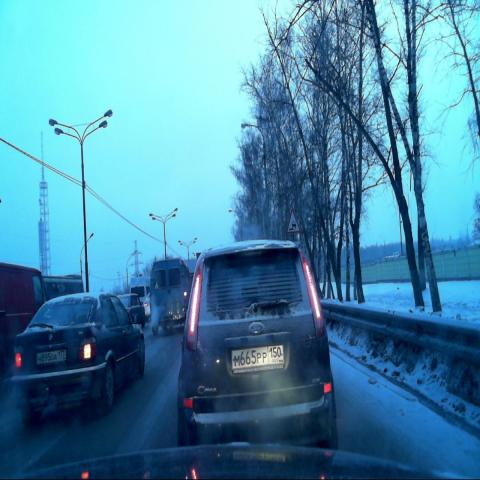1_19: (286, 210, 300, 235)
